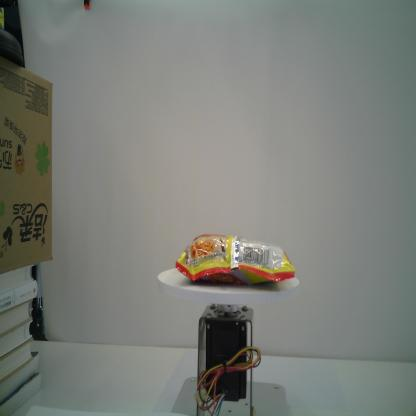Instant Noodles: (174, 232, 297, 288)
